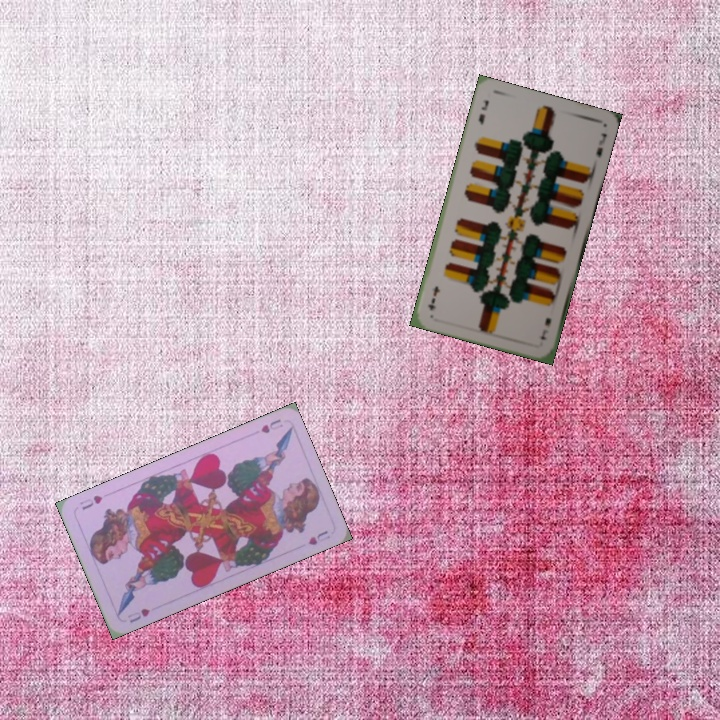E7: (474, 96, 491, 127), (536, 313, 554, 342)
HU: (123, 604, 152, 625), (257, 415, 286, 436)
